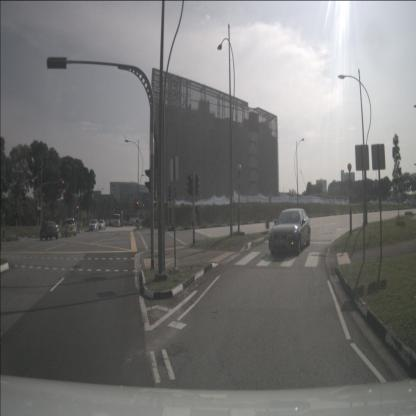vehicle-car: (268, 208, 310, 255), (40, 220, 59, 240), (62, 218, 76, 237), (88, 219, 99, 232), (97, 220, 106, 230)
vehicle-truck: (113, 214, 121, 226)
